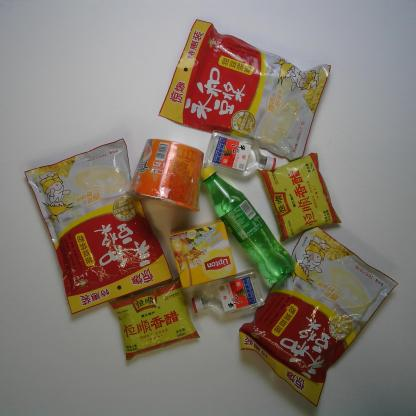Alcohol: (191, 267, 266, 319), (203, 129, 278, 180)
Drink: (199, 164, 297, 285)
Instant Drink: (238, 224, 400, 409), (21, 135, 176, 321), (156, 15, 334, 162), (168, 218, 238, 290)
Instant Noodles: (125, 137, 205, 213)
Seasoner: (106, 275, 202, 364), (255, 151, 342, 243)
